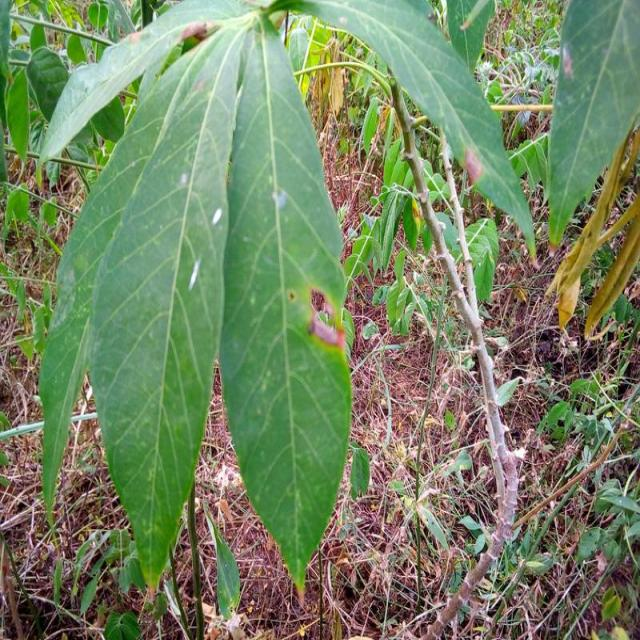cassava leaf: (38, 3, 353, 605), (216, 9, 352, 604), (546, 0, 638, 252)
